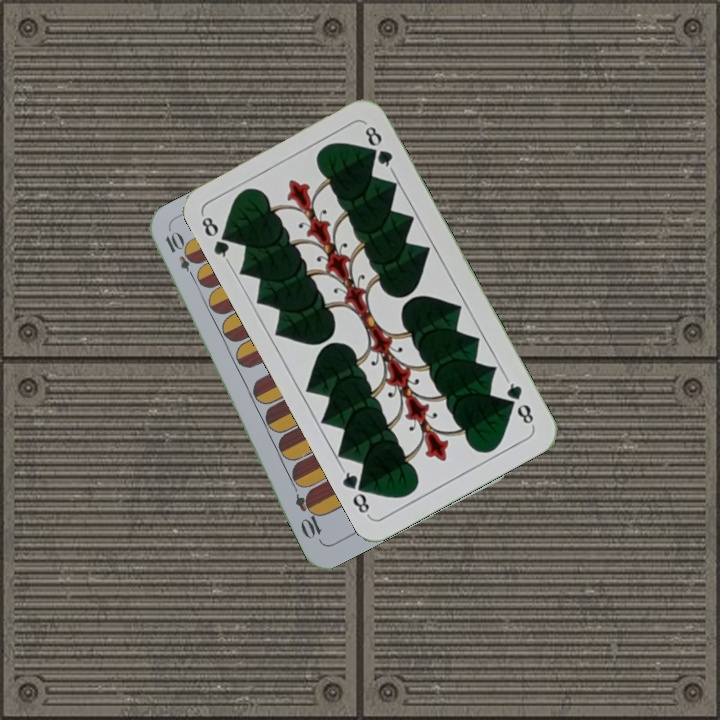E10: (161, 228, 201, 284)
G8: (197, 212, 236, 265), (501, 375, 537, 429)
